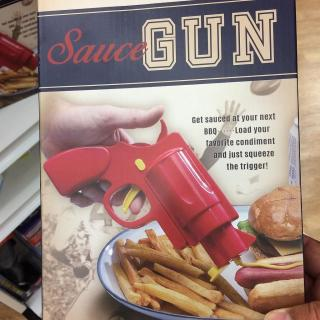Bread: (251, 187, 301, 250), (247, 278, 303, 313), (253, 254, 302, 263)
French fries: (106, 233, 250, 316)
